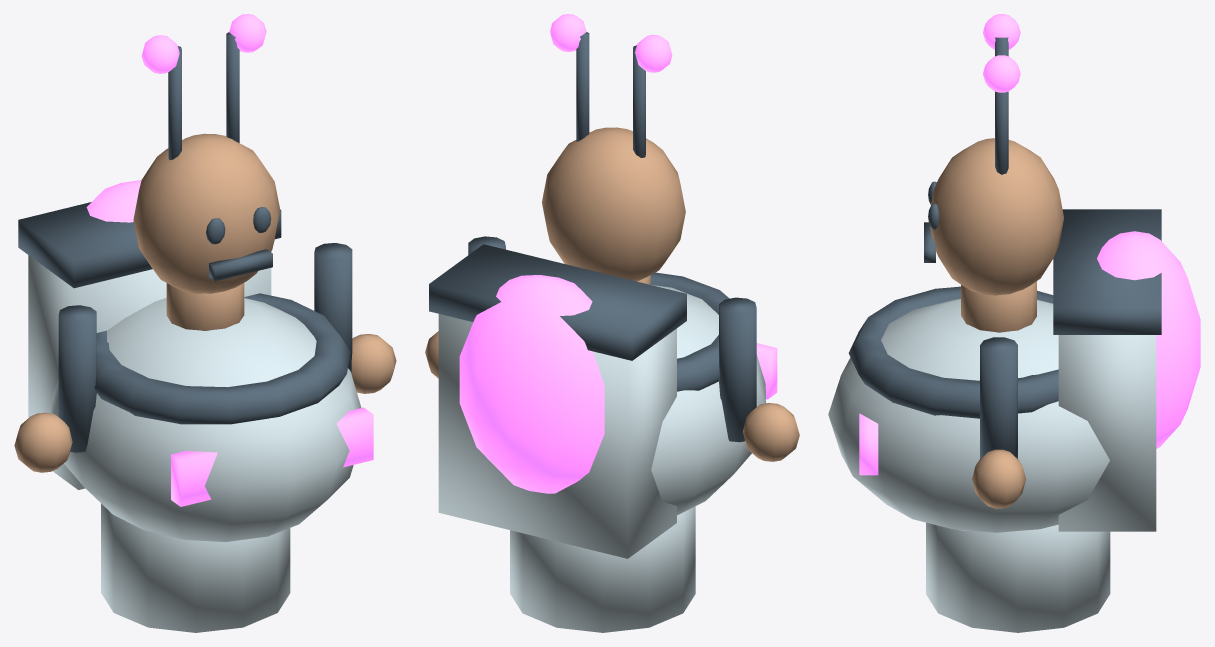
Rendered from porcelain-raider-parasite-v001.glb.
3 renders of one model, left to right at view 1: azimuth 30°, elevation 25°; view 2: azimuth 150°, elevation 25°; view 3: azimuth 270°, elevation 25°, orthographic. The views are drawn at different scales.
Parts seen in each view (by area): view 1: bowl, pedestal, head, rim, tank, tank-lid, arm-left, energy-band, arm-right, neck, hand-left, hand-right (+6 smaller); view 2: tank, brood-pod, head, pedestal, tank-lid, bowl, arm-left, rim, hand-left, antenna-right, antenna-left, antenna-tip-left (+2 smaller); view 3: bowl, pedestal, head, tank, tank-lid, brood-pod, rim, arm-right, neck, hand-right, energy-band, antenna-right (+2 smaller).
Boxes of the visible parts, <box> form: bowl: <box>51,297,361,541</box>; pedestal: <box>101,503,290,632</box>; head: <box>133,133,280,293</box>; rim: <box>94,293,350,424</box>; tank: <box>28,255,271,489</box>; tank-lid: <box>18,202,281,288</box>; arm-left: <box>58,305,96,452</box>; energy-band: <box>171,407,373,506</box>; arm-right: <box>314,243,352,372</box>; neck: <box>166,283,244,330</box>; hand-left: <box>14,412,72,472</box>; hand-right: <box>351,334,396,393</box>; tank: <box>438,314,676,558</box>; brood-pod: <box>459,275,604,493</box>; head: <box>542,127,685,281</box>; pedestal: <box>510,506,695,632</box>; tank-lid: <box>429,244,686,360</box>; bowl: <box>651,285,766,515</box>; arm-left: <box>719,297,756,442</box>; rim: <box>650,272,729,391</box>; hand-left: <box>743,403,799,461</box>; antenna-right: <box>576,32,589,141</box>; antenna-left: <box>633,45,645,157</box>; antenna-tip-left: <box>635,34,672,72</box>; bowl: <box>828,299,1109,532</box>; pedestal: <box>926,522,1110,632</box>; head: <box>930,138,1063,295</box>; tank: <box>1058,335,1156,531</box>; tank-lid: <box>1053,209,1161,334</box>; brood-pod: <box>1097,231,1200,448</box>; rim: <box>848,286,1058,418</box>; arm-right: <box>980,337,1017,458</box>; neck: <box>961,281,1036,332</box>; hand-right: <box>972,449,1025,508</box>; energy-band: <box>859,413,878,475</box>; antenna-right: <box>995,91,1008,174</box>.
Size of the model in its own units: 1.55 by 2.27 by 1.37.
